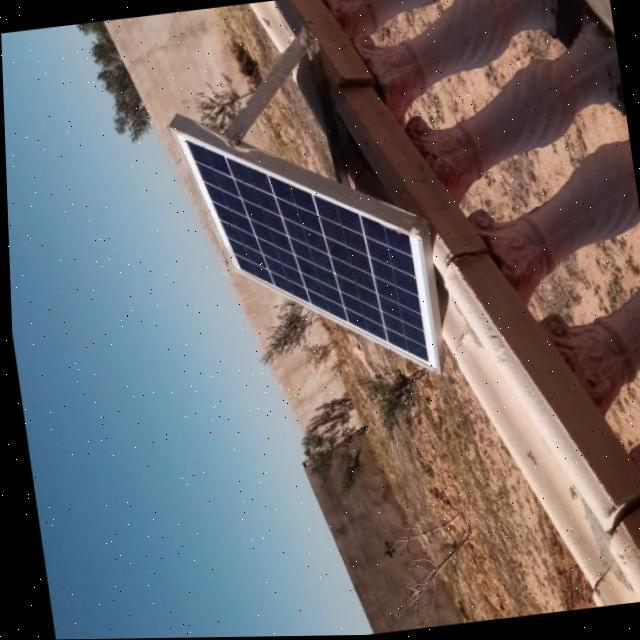Normal Solar Panel: (175, 104, 436, 396)
